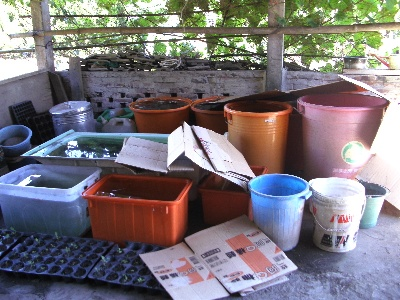bowl: (342, 55, 369, 71)
box: (83, 170, 193, 248), (2, 160, 102, 240)
bucket: (295, 91, 391, 181), (223, 98, 294, 178), (247, 173, 310, 251), (308, 176, 365, 256), (126, 96, 192, 133), (189, 94, 232, 134), (48, 99, 97, 134), (1, 123, 33, 164)
tub: (18, 125, 206, 178)
